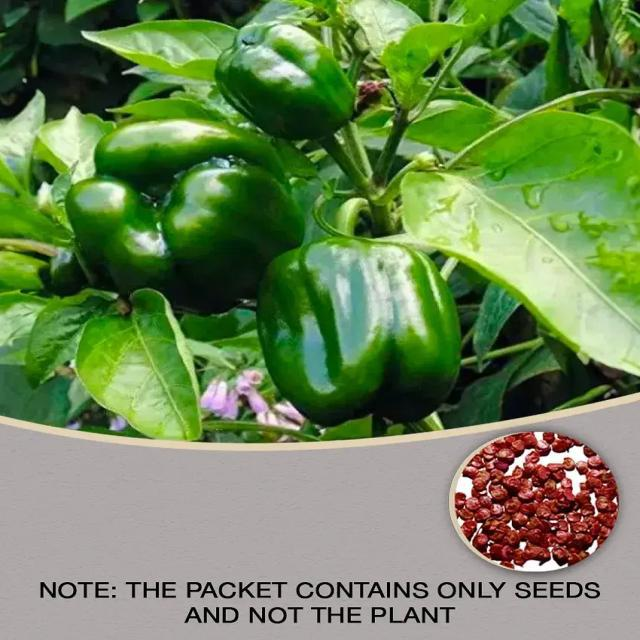Capsicum: (68, 108, 287, 309), (255, 240, 469, 429), (213, 21, 359, 140)
